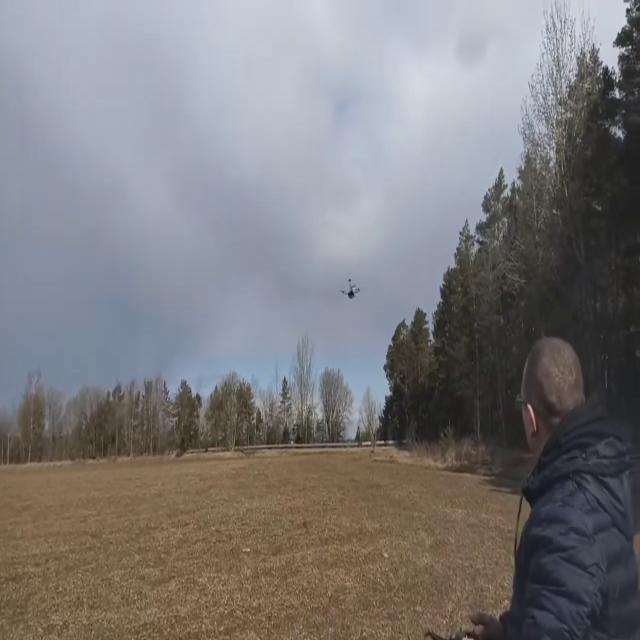Drons: (337, 278, 363, 302)
